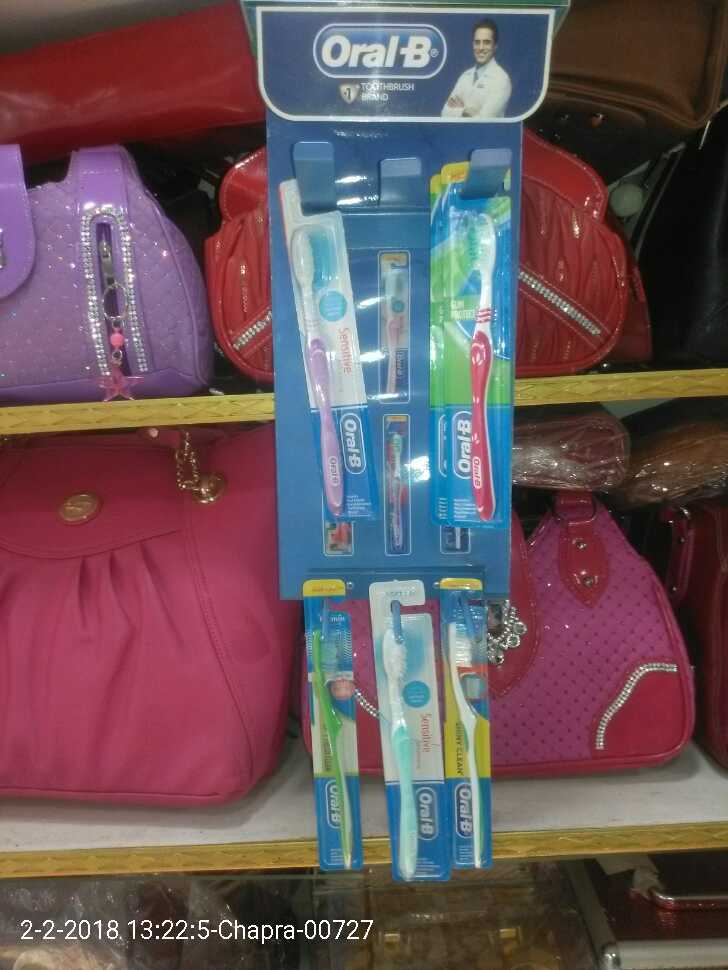oralb: (279, 165, 372, 515), (426, 168, 511, 523), (361, 578, 446, 883), (299, 565, 365, 865), (439, 578, 499, 872)
